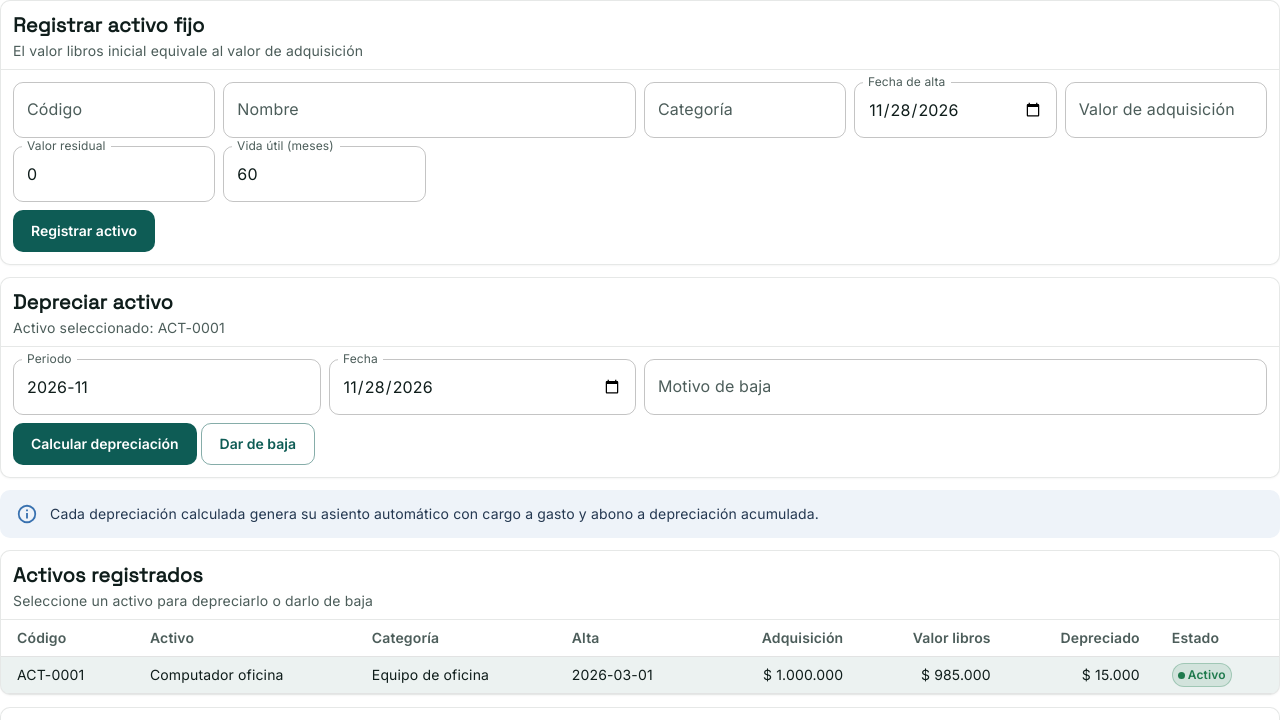
Test case: ActivosTab › usa el mensaje genérico si el backend no devuelve detalle
The image size is (1280, 720).
Type "ACT-NUEVO" into the field labelled "Código" at x=114, y=110, box [13,82,215,138]
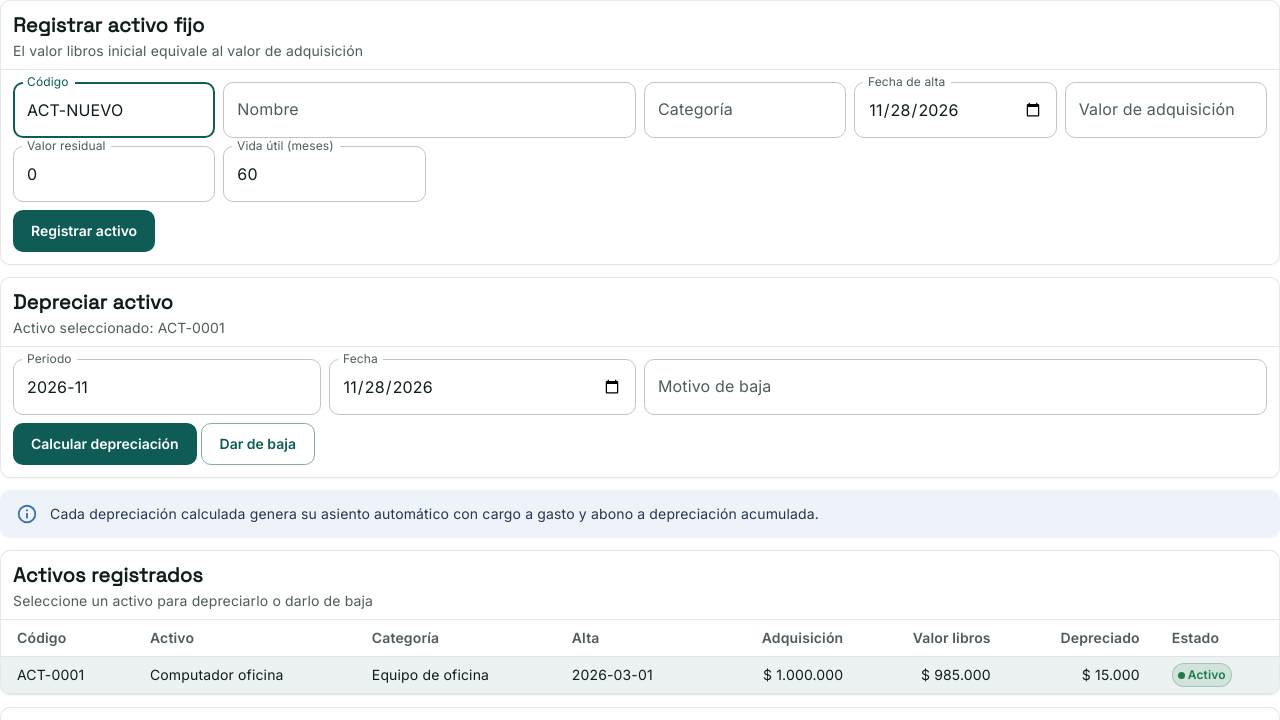
Type "Computador oficina" into the field labelled "Nombre" at x=430, y=110, box [223,82,636,138]
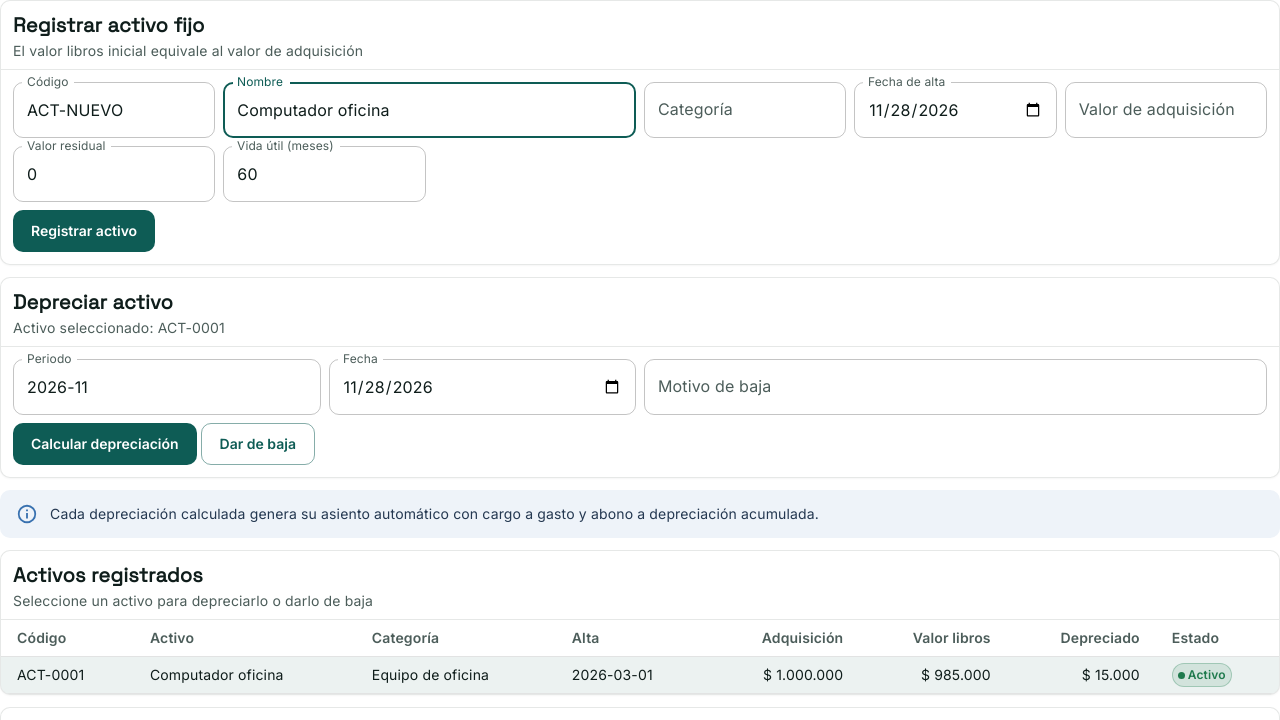
Type "1000" into the number field labelled "Valor de adquisición" at x=1166, y=110, box [1065,82,1267,138]
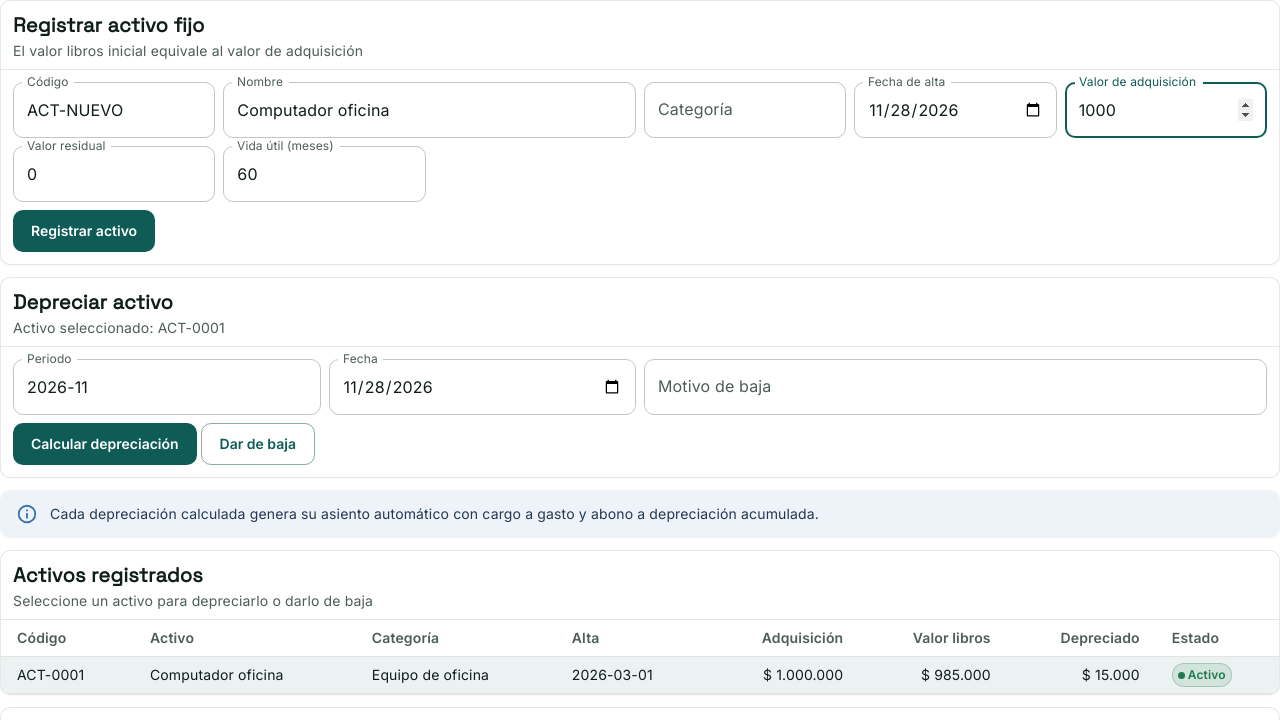
Click the button "Registrar activo" at x=84, y=231, box [13,210,155,252]
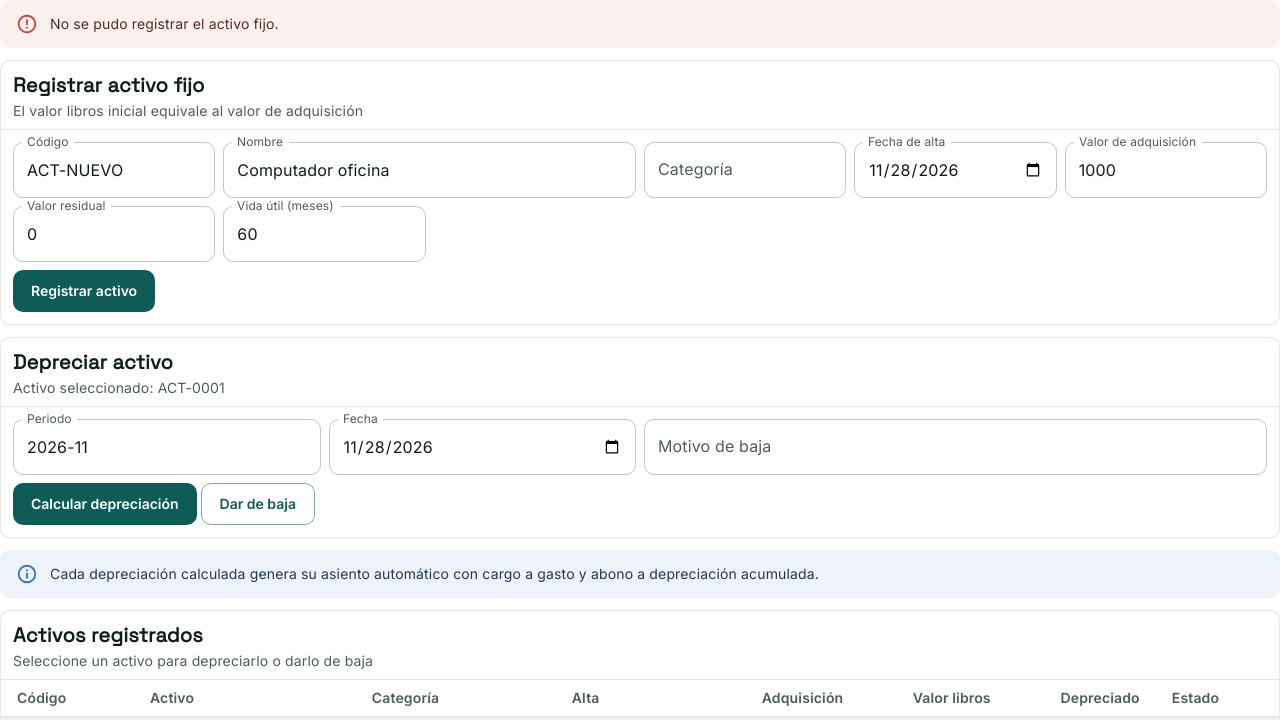
Check: the text "No se pudo registrar el activo fijo." is shown, box [50,15,279,32]
